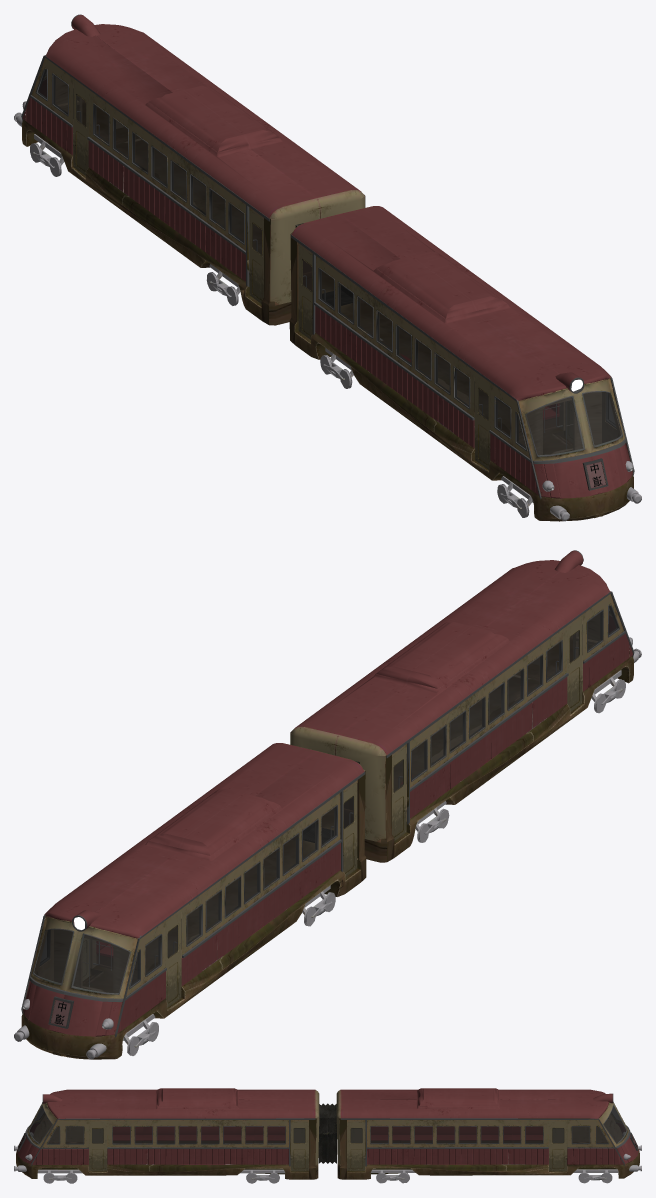
Rendered from seatrain.glb.
The picture shows the model from 3 angles, top to bottom: view 1: azimuth 30°, elevation 25°; view 2: azimuth 150°, elevation 25°; view 3: azimuth 270°, elevation 25°; orthographic projection. The views are drawn at different scales.
Visible parts, largest first — view 1: polySurface6560_pasted__aiStandardSurface1_0, polySurface6560_pasted__lambert21_0, polySurface6560_pasted__aiStandardSurface2_0, polySurface6560_pasted__aiStandardSurface5_0; view 2: polySurface6560_pasted__aiStandardSurface1_0, polySurface6560_pasted__lambert21_0, polySurface6560_pasted__aiStandardSurface2_0, polySurface6560_pasted__aiStandardSurface5_0; view 3: polySurface6560_pasted__aiStandardSurface1_0, polySurface6560_pasted__lambert21_0, polySurface6560_pasted__aiStandardSurface2_0, polySurface6560_pasted__aiStandardSurface5_0, polySurface6560_lambert22_0.
Part boxes in pixels (box(x1,y1,x2,y2)): polySurface6560_pasted__aiStandardSurface1_0: box(14, 14, 641, 521); polySurface6560_pasted__lambert21_0: box(37, 69, 621, 455); polySurface6560_pasted__aiStandardSurface2_0: box(25, 77, 621, 454); polySurface6560_pasted__aiStandardSurface5_0: box(73, 82, 572, 469); polySurface6560_pasted__aiStandardSurface1_0: box(14, 550, 641, 1059); polySurface6560_pasted__lambert21_0: box(34, 606, 618, 993); polySurface6560_pasted__aiStandardSurface2_0: box(34, 613, 629, 992); polySurface6560_pasted__aiStandardSurface5_0: box(83, 618, 582, 1007); polySurface6560_pasted__aiStandardSurface1_0: box(14, 1088, 641, 1183); polySurface6560_pasted__lambert21_0: box(29, 1105, 626, 1143); polySurface6560_pasted__aiStandardSurface2_0: box(33, 1114, 622, 1165); polySurface6560_pasted__aiStandardSurface5_0: box(89, 1122, 567, 1171); polySurface6560_lambert22_0: box(318, 1103, 336, 1163).
Size of the model in its own units: 2.65 by 3.15 by 23.64.
Materials: 9 (6 with a texture image).
